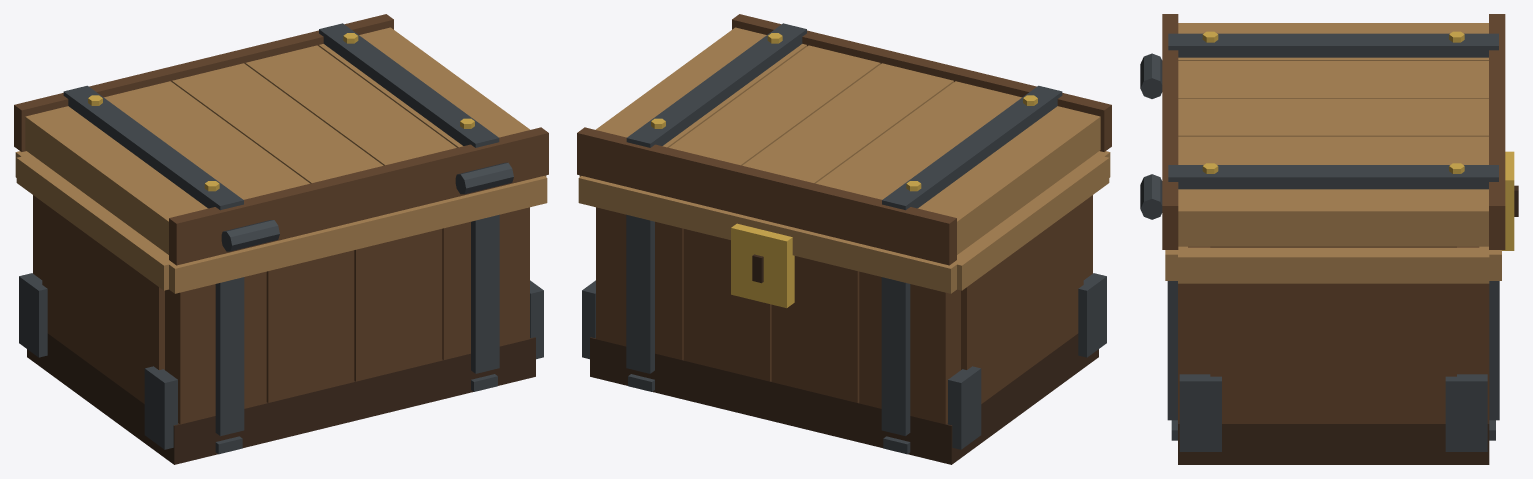
Rendered from chest.glb.
3 renders of one model, left to right at view 1: azimuth 30°, elevation 25°; view 2: azimuth 150°, elevation 25°; view 3: azimuth 270°, elevation 25°, orthographic. The views are drawn at different scales.
Visible parts, largest first — view 1: ChestBody, LidHinge; view 2: ChestBody, LidHinge; view 3: LidHinge, ChestBody.
Boxes of the visible parts, left/top/right/bottom form: ChestBody: left=15, top=151, right=547, bottom=464; LidHinge: left=14, top=14, right=548, bottom=265; ChestBody: left=578, top=151, right=1110, bottom=464; LidHinge: left=577, top=14, right=1111, bottom=265; LidHinge: left=1162, top=14, right=1505, bottom=249; ChestBody: left=1140, top=53, right=1518, bottom=464.
Bounding box in the file's own units: 0.719 × 0.462 × 0.583.
